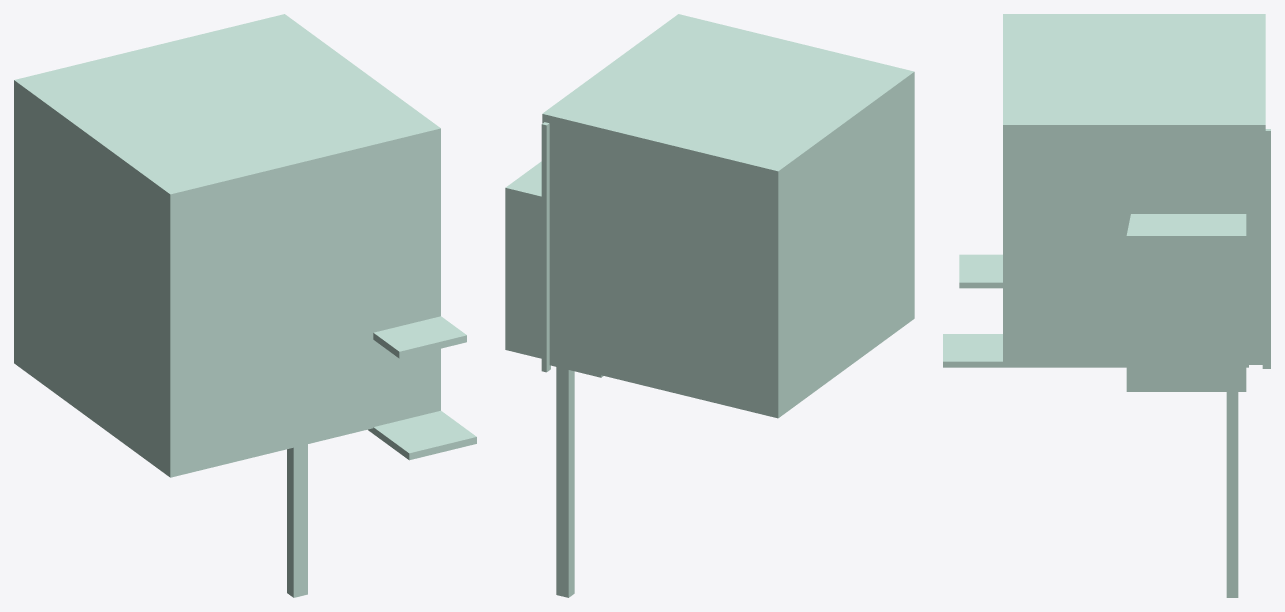
The picture shows the model from 3 angles, left to right: view 1: azimuth 30°, elevation 25°; view 2: azimuth 150°, elevation 25°; view 3: azimuth 270°, elevation 25°; orthographic projection. The views are drawn at different scales.
Parts seen in each view (by area): view 1: Renderer Node; view 2: Renderer Node; view 3: Renderer Node.
Boxes of the visible parts, bbox=[...] form: Renderer Node: bbox=[14, 14, 476, 597]; Renderer Node: bbox=[505, 14, 914, 597]; Renderer Node: bbox=[943, 14, 1270, 597].
Size of the model in its own units: 0.8984 by 1.49 by 0.9375.
